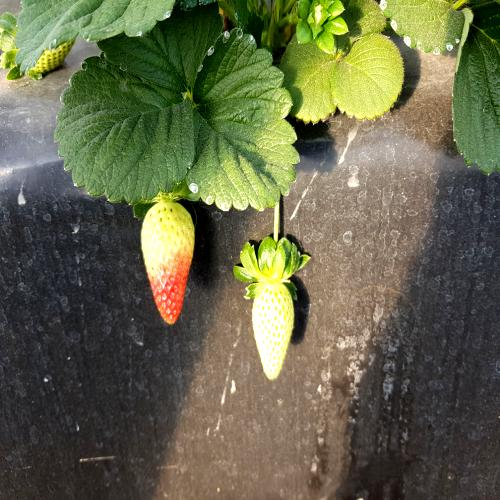partially-ripe: (131, 188, 205, 341)
